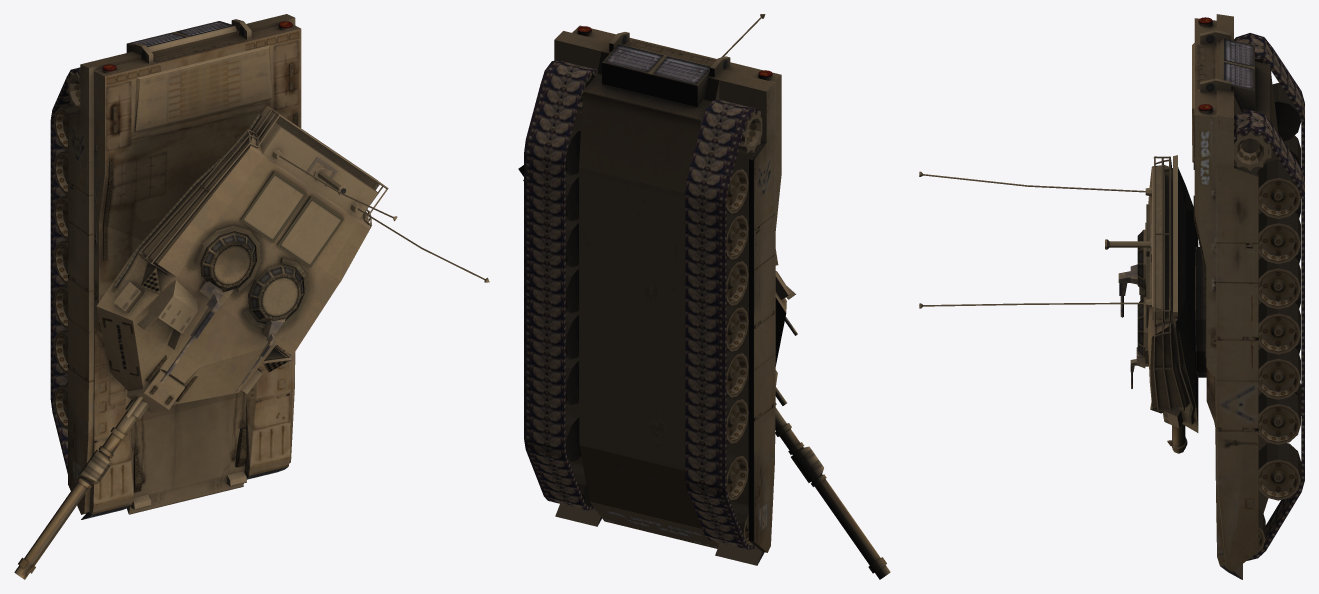
The model's file is M1_Abrams.dae.
3 renders of one model, left to right at view 1: azimuth 30°, elevation 25°; view 2: azimuth 150°, elevation 25°; view 3: azimuth 270°, elevation 25°, orthographic. The views are drawn at different scales.
Parts seen in each view (by area): view 1: node; view 2: node; view 3: node.
Part boxes in pixels (x1,y1,x2,y2): node: (14, 14, 489, 579); node: (518, 14, 890, 579); node: (919, 14, 1304, 579).
Size of the model in its own units: 138 by 177 by 126.
